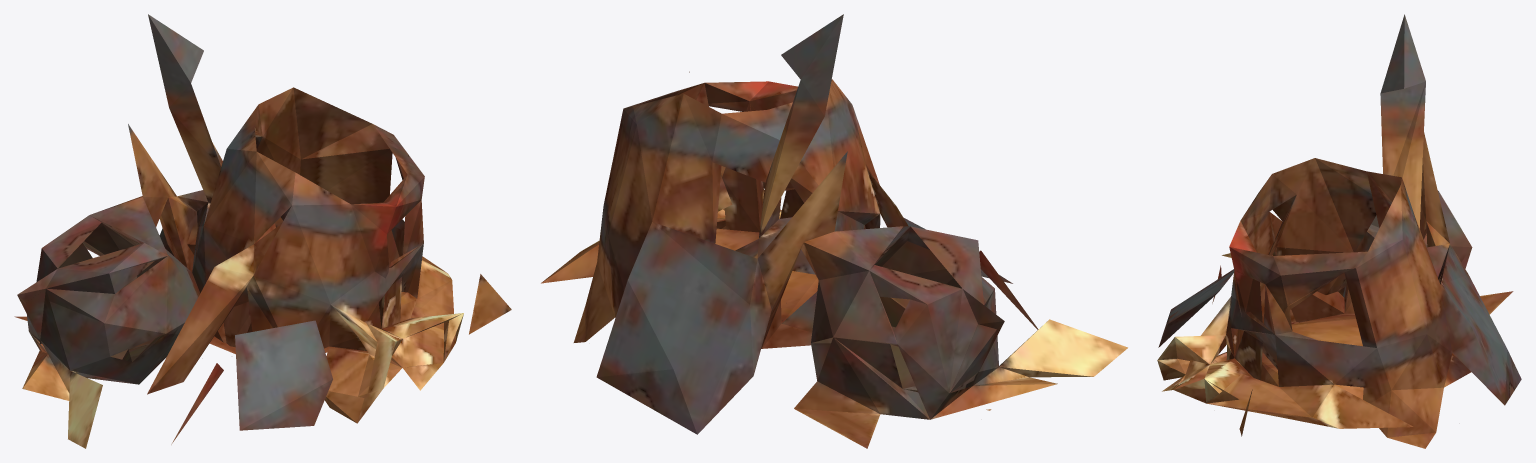
The model's file is junk-pile.glb.
The picture shows the model from 3 angles, left to right: view 1: azimuth 30°, elevation 25°; view 2: azimuth 150°, elevation 25°; view 3: azimuth 270°, elevation 25°; orthographic projection. The views are drawn at different scales.
Visible parts, largest first — view 1: junk-pile; view 2: junk-pile; view 3: junk-pile.
Boxes of the visible parts, bbox=[...] form: junk-pile: bbox=[14, 14, 511, 448]; junk-pile: bbox=[541, 14, 1127, 448]; junk-pile: bbox=[1157, 14, 1521, 448].
Size of the model in its own units: 1.98 by 1.49 by 1.48.
Materials: 1 (1 with a texture image).
